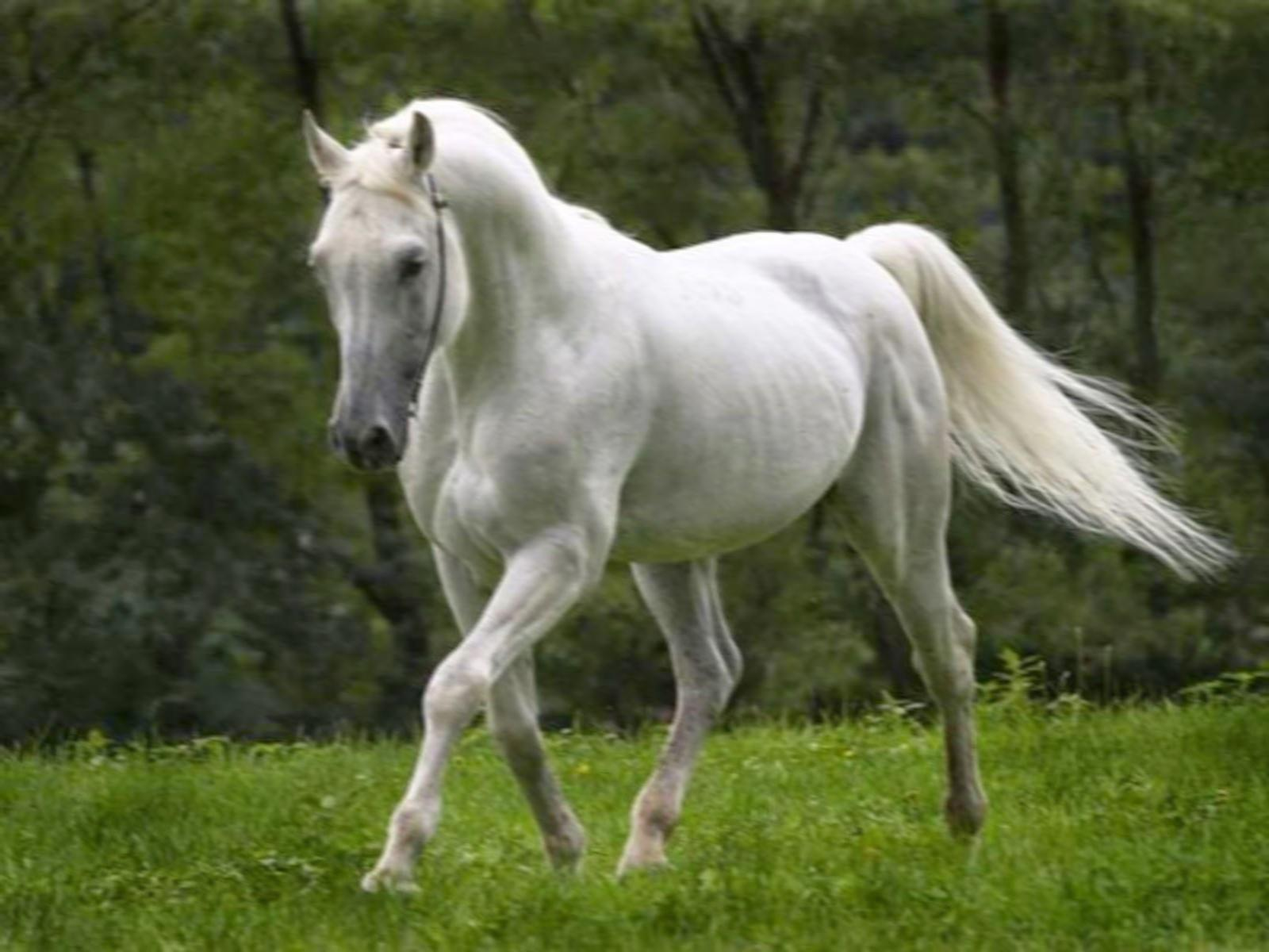horse: (283, 75, 1250, 910)
